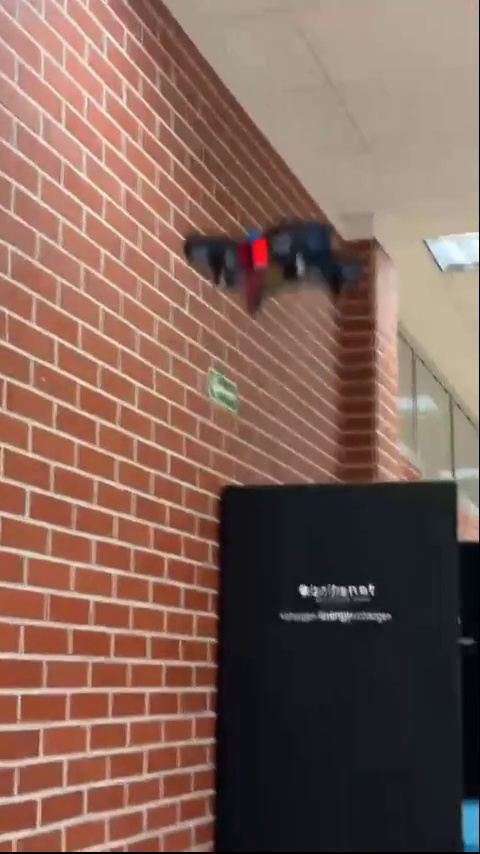drone: (180, 223, 354, 319)
